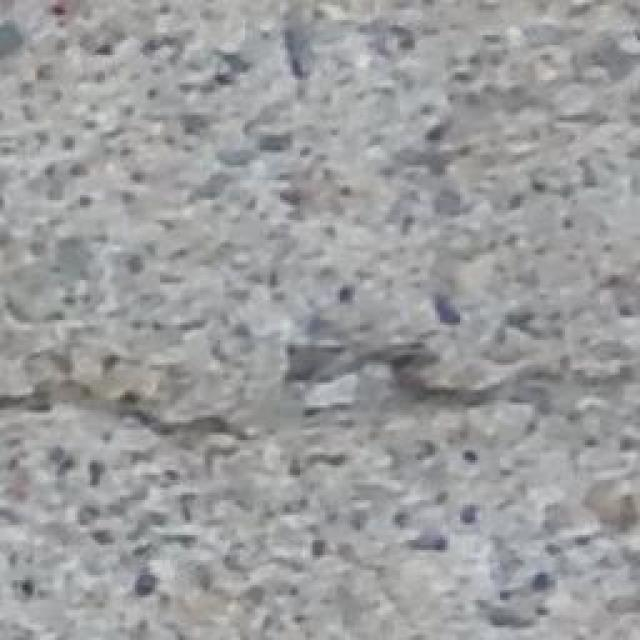concrete-crack: (272, 305, 640, 429), (0, 373, 268, 472)
